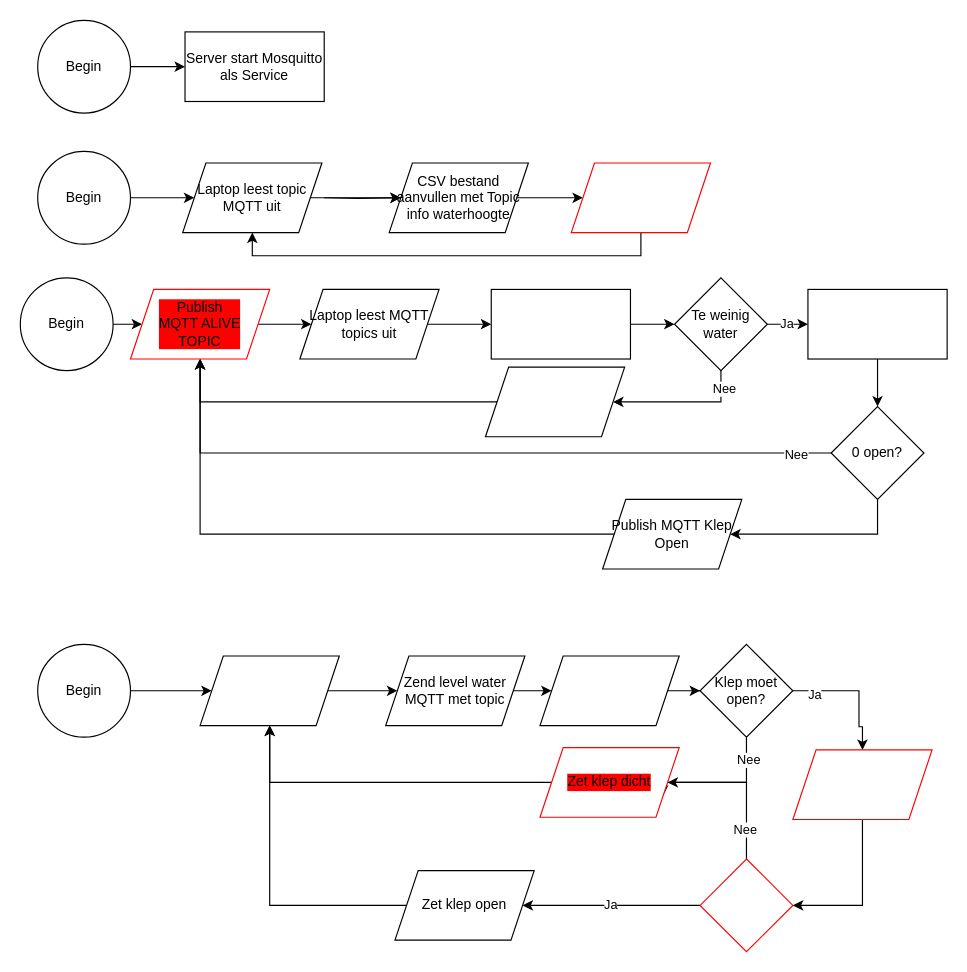
This 967x972 diagram has some shape labels left out. The shapes that lost their labels are listed below. From the top down, each one's centre as x and y in pixels, then its label:
At point 640,197: "CSV uitbreiden Met Temp/hum/licht".
At point 560,323: "Waterlevel wordt gecontroleerd aan de hand van parameters hoogte".
At point 877,323: "bekijk of er 0 kleppen open staan".
At point 554,401: "Publish MQTT Klep Dicht".
At point 269,690: "Lees level water".
At point 609,690: "Bekijk MQTT topic voor klep stand".
At point 862,784: "Lees MQTT ALIVE Signaal".
At point 746,905: "Is Alive?".
